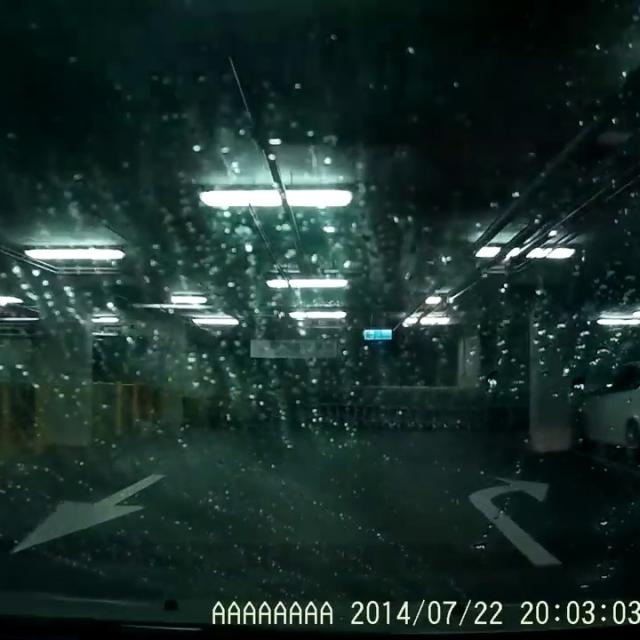Car: (572, 353, 639, 459)
